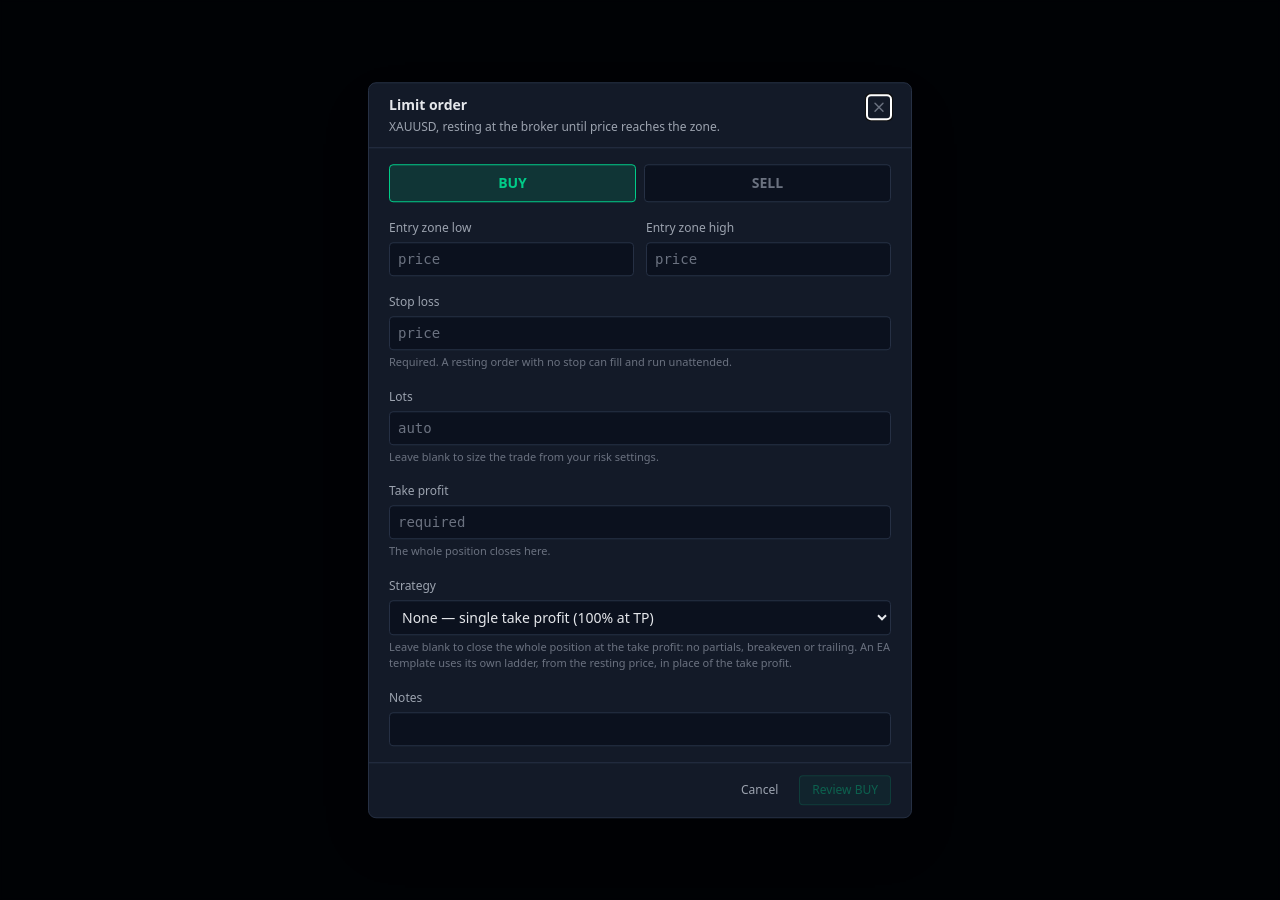
Test case: the confirmation › says the order can fill while nothing is watching
Type "2430" into the field labelled "Entry zone low" at coordinates (512, 259), box [389, 242, 634, 276]
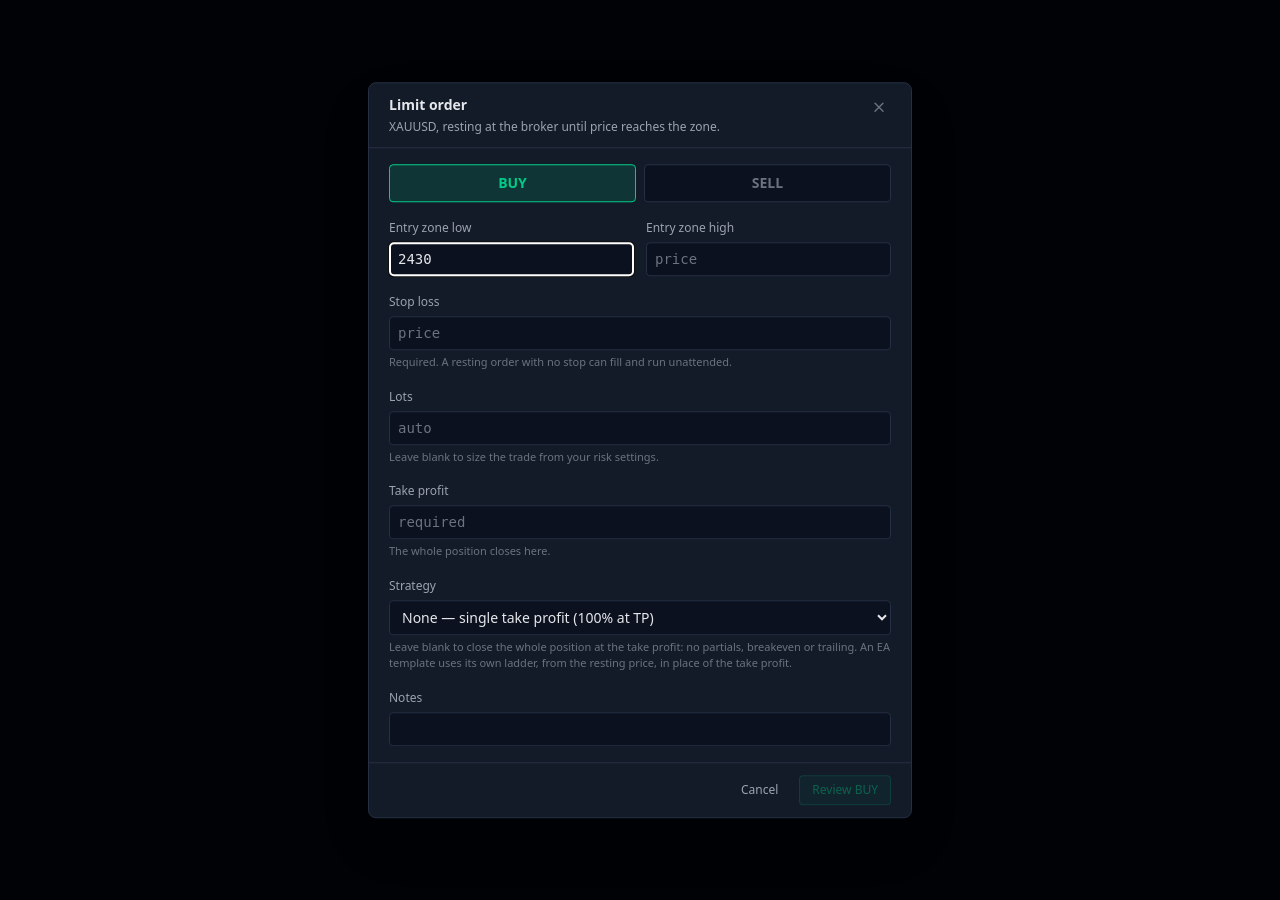
Type "2432" into the field labelled "Entry zone high" at coordinates (768, 259), box [646, 242, 891, 276]
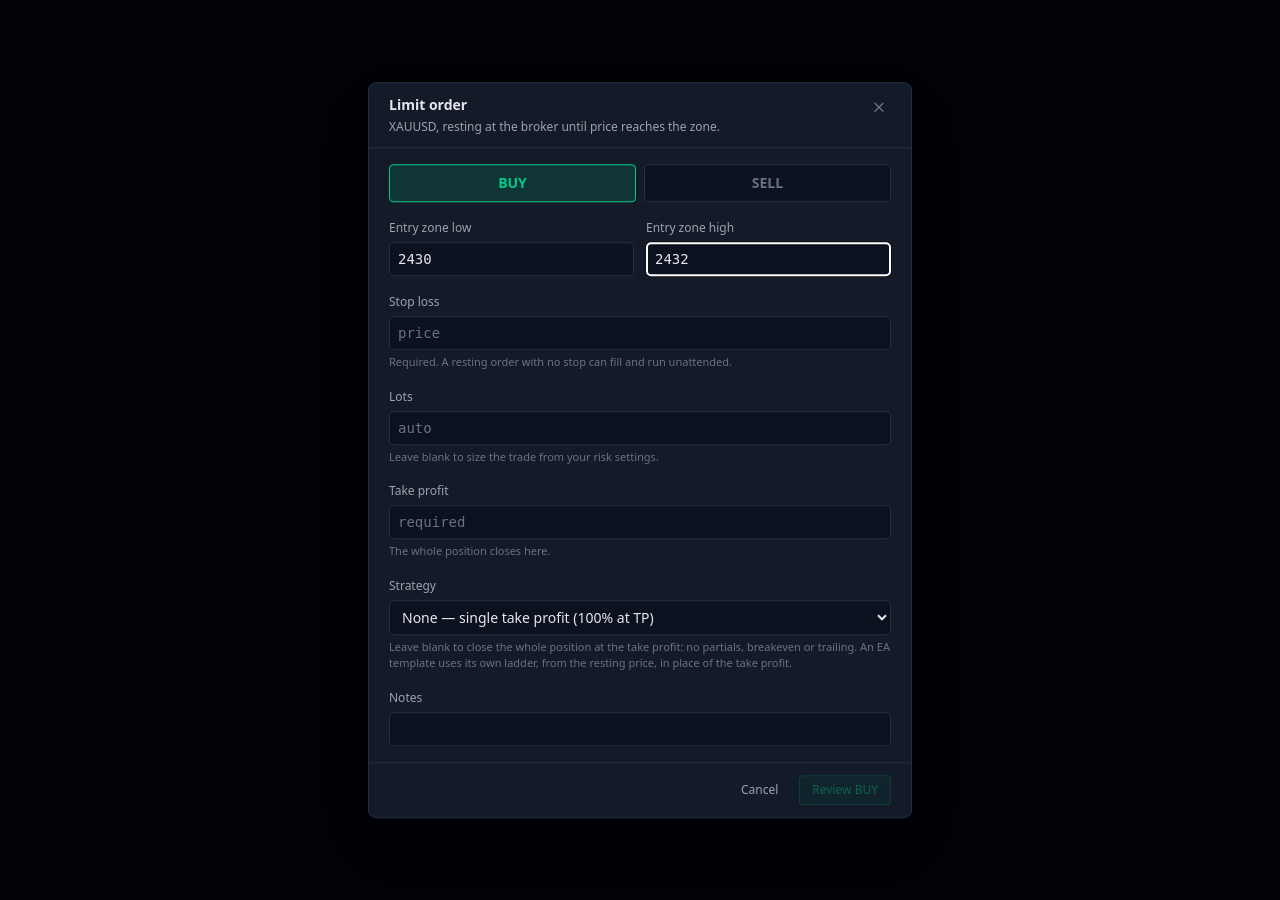
Type "2421" into the field labelled "Stop loss" at coordinates (640, 333), box [389, 316, 891, 350]
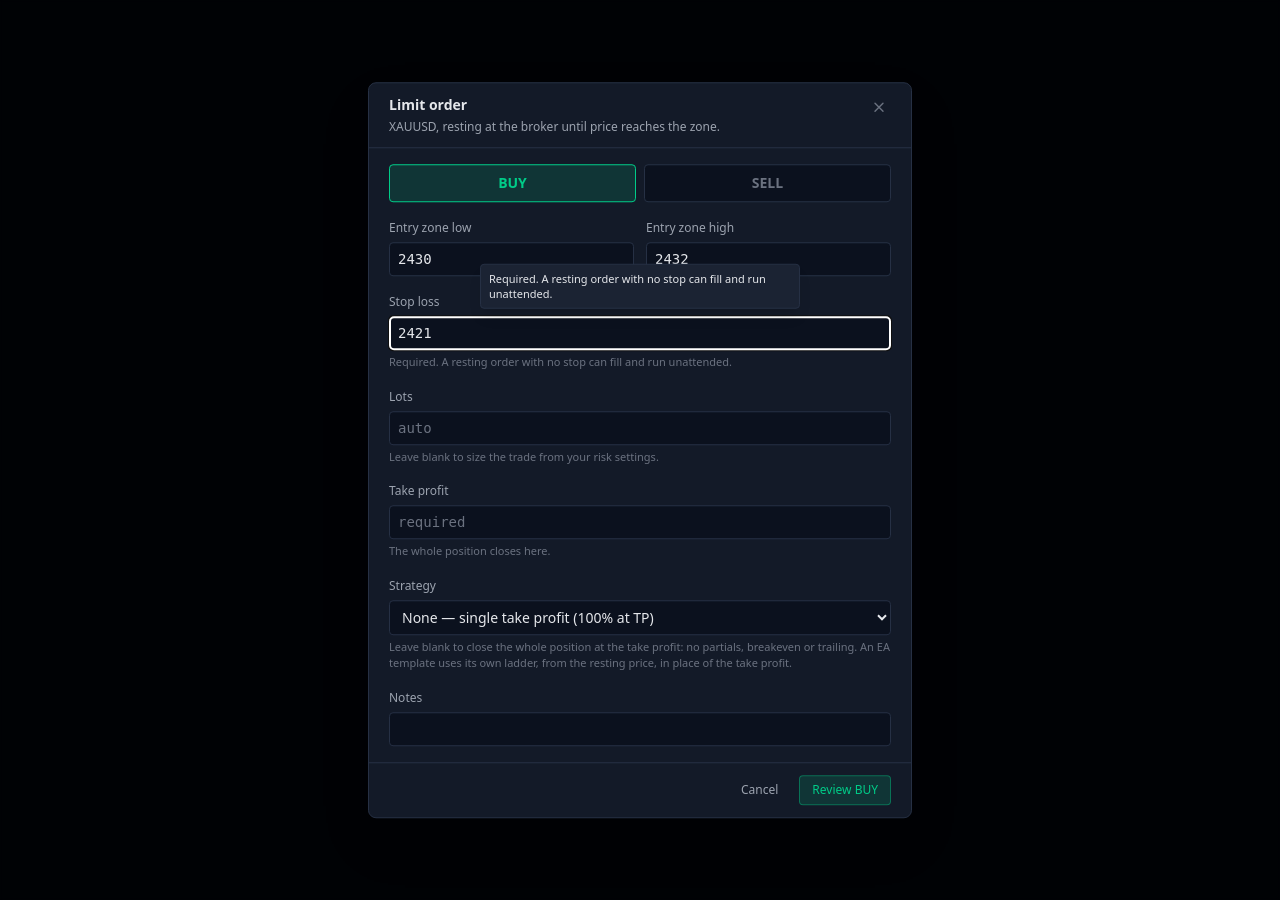
Click the button "Review BUY" at coordinates (845, 790), box [799, 775, 891, 805]
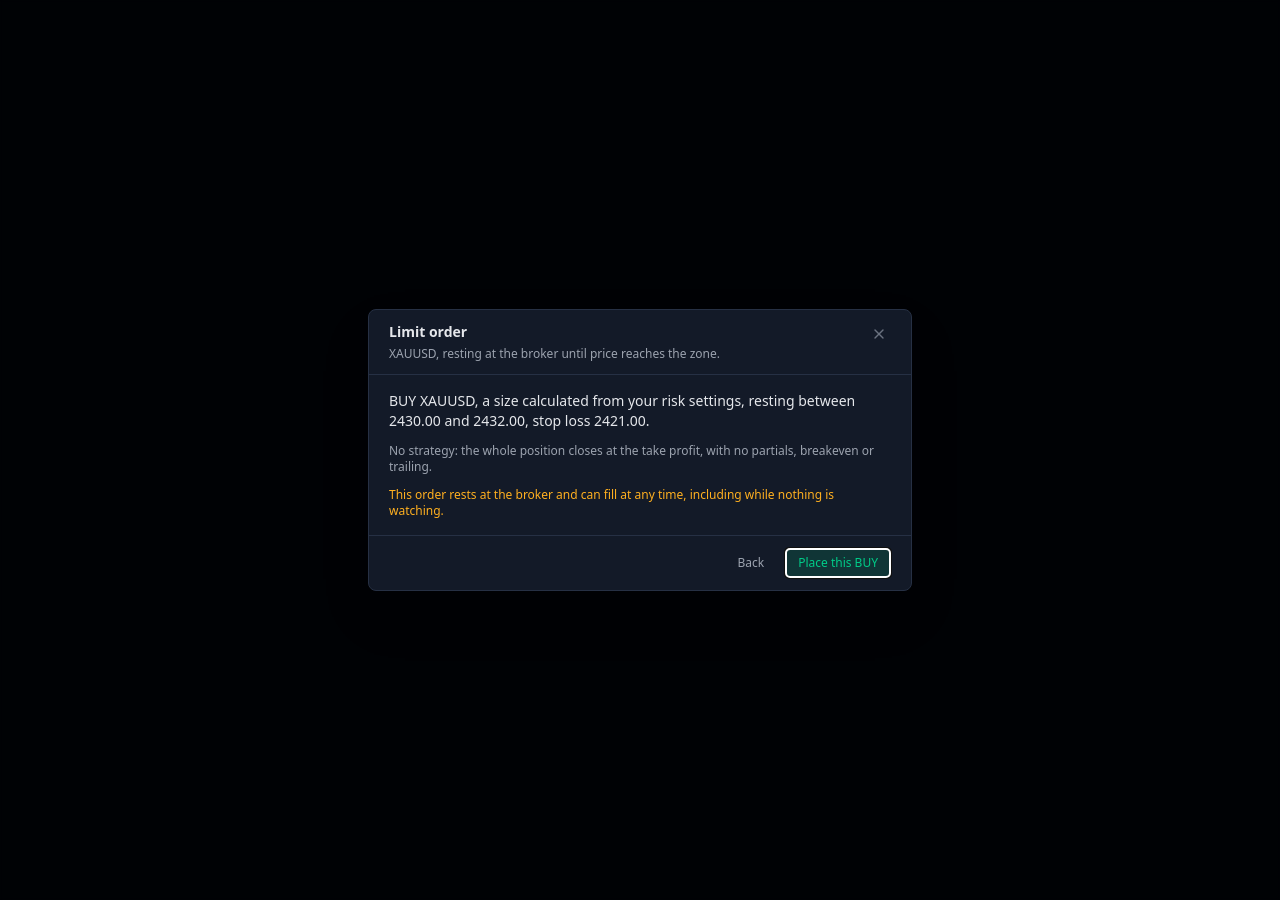
Result: the text "while nothing is watching" is shown at [389, 486, 834, 519]
